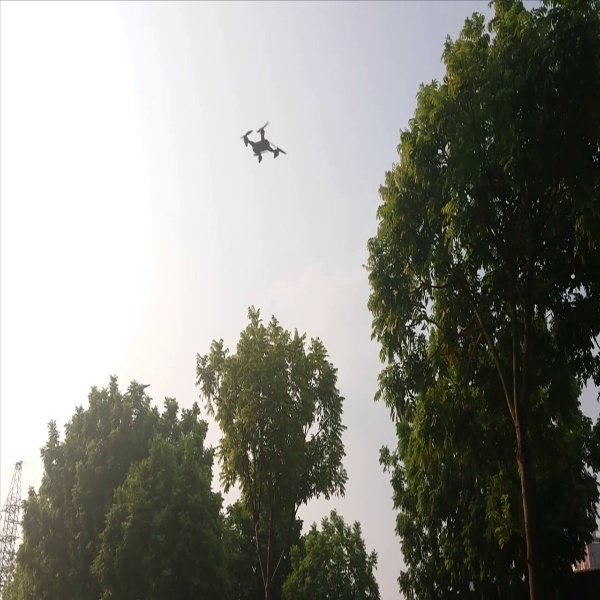drone: (233, 118, 296, 170)
